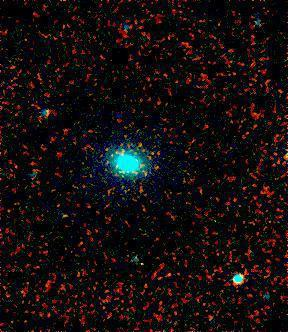star: (51, 201, 81, 231)
